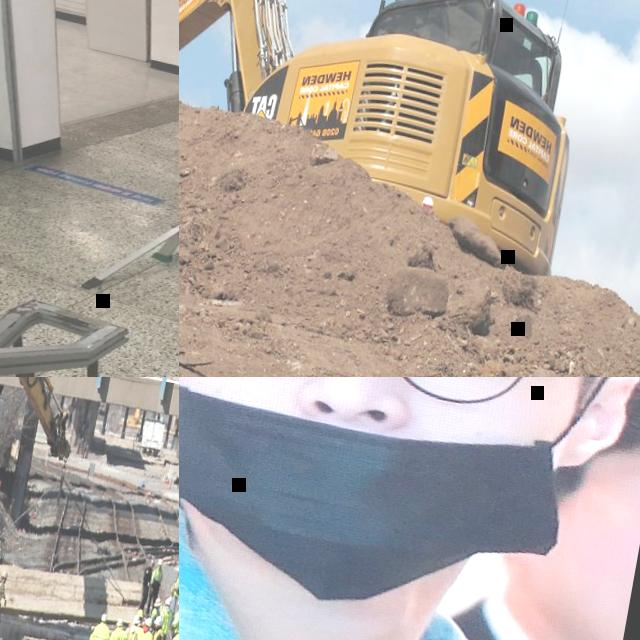Hardhat: (152, 596, 162, 606), (153, 614, 162, 624), (115, 618, 124, 627), (100, 611, 108, 621), (164, 598, 172, 606), (144, 618, 152, 626), (1, 570, 8, 578), (134, 614, 141, 622), (156, 558, 164, 565), (175, 597, 179, 606), (175, 565, 179, 573), (150, 560, 156, 564)
Mask: (179, 377, 610, 640)
NO-Hardhat: (604, 377, 640, 461)
NO-Mask: (504, 515, 640, 640)
NO-Safety Vest: (179, 564, 573, 640), (142, 565, 152, 585)
Person: (179, 377, 640, 640), (414, 377, 640, 640), (144, 557, 164, 616), (136, 558, 156, 614), (0, 569, 13, 640), (81, 610, 111, 640), (156, 596, 174, 639), (125, 616, 156, 640), (99, 617, 131, 640), (141, 614, 169, 640), (115, 617, 141, 640), (169, 597, 179, 640), (168, 563, 179, 599), (149, 596, 163, 620), (176, 560, 179, 598), (135, 607, 144, 619)
Safety Cone: (165, 462, 172, 481), (166, 473, 172, 490), (161, 470, 167, 483)
Safety Vest: (157, 606, 172, 636), (87, 621, 110, 640), (131, 624, 153, 640), (148, 566, 164, 588), (105, 626, 130, 640), (122, 623, 140, 640), (170, 605, 179, 634), (169, 573, 179, 596), (149, 625, 164, 640), (150, 608, 158, 618), (0, 580, 3, 605)
vehicle: (179, 0, 603, 293), (0, 377, 91, 621), (135, 419, 165, 457)
